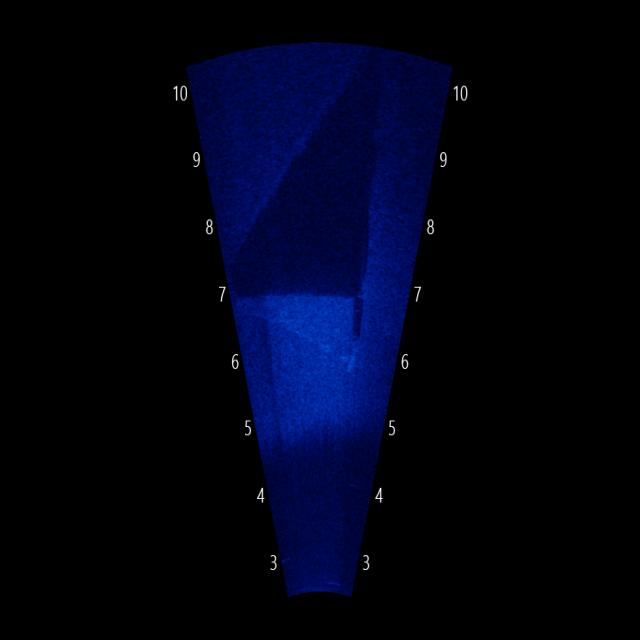triangle: (248, 270, 376, 381)
